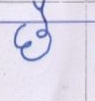ai_matra: (32, 0, 52, 21)
